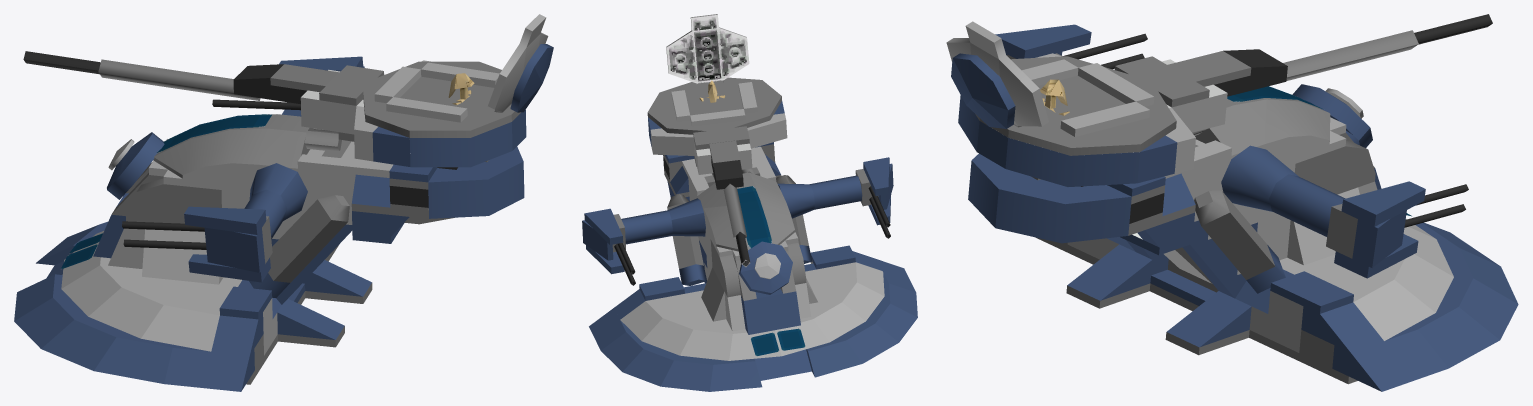
3 views of the same model, side by side, from view 1: azimuth 30°, elevation 25°; view 2: azimuth 150°, elevation 25°; view 3: azimuth 270°, elevation 25° (orthographic). The views are drawn at different scales.
Visible parts, largest first — view 1: Geo_9.039_9, Geo_9.026_22, Geo_9.043_5, Geo_9.040_8, Geo_9.028_20, Geo_9.027_21, Geo_9.044_4, Geo_9.047_1, Geo_9.029_19, Geo_9.041_7, Geo_9.042_6, Geo_9.046_2 (+1 smaller); view 2: Geo_9.039_9, Geo_9.026_22, Geo_9.041_7, Geo_9.038_10, Geo_9.043_5, Geo_9.040_8, Geo_9.028_20, Geo_9.047_1, Geo_9.046_2, Geo_9.044_4, Geo_9.042_6, Geo_9.027_21; view 3: Geo_9.039_9, Geo_9.026_22, Geo_9.041_7, Geo_9.027_21, Geo_9.028_20, Geo_9.040_8, Geo_9.043_5, Geo_9.029_19, Geo_9.042_6, Geo_9.044_4, Geo_9.047_1, Geo_9.045_3 (+1 smaller).
Part boxes in pixels (x1=…): Geo_9.039_9: x1=14, y1=132, x2=524, y2=391; Geo_9.026_22: x1=300, y1=60, x2=526, y2=167; Geo_9.043_5: x1=184, y1=163, x2=307, y2=282; Geo_9.040_8: x1=153, y1=114, x2=341, y2=178; Geo_9.028_20: x1=98, y1=59, x2=339, y2=104; Geo_9.027_21: x1=488, y1=14, x2=553, y2=112; Geo_9.044_4: x1=122, y1=221, x2=206, y2=249; Geo_9.047_1: x1=156, y1=114, x2=272, y2=153; Geo_9.029_19: x1=23, y1=51, x2=100, y2=74; Geo_9.041_7: x1=279, y1=56, x2=364, y2=116; Geo_9.042_6: x1=212, y1=99, x2=300, y2=110; Geo_9.046_2: x1=61, y1=233, x2=102, y2=269; Geo_9.039_9: x1=589, y1=142, x2=917, y2=391; Geo_9.026_22: x1=647, y1=77, x2=787, y2=174; Geo_9.041_7: x1=582, y1=198, x2=705, y2=274; Geo_9.038_10: x1=666, y1=15, x2=749, y2=83; Geo_9.043_5: x1=777, y1=157, x2=893, y2=225; Geo_9.040_8: x1=697, y1=168, x2=795, y2=251; Geo_9.028_20: x1=709, y1=140, x2=746, y2=239; Geo_9.047_1: x1=737, y1=186, x2=772, y2=248; Geo_9.046_2: x1=750, y1=328, x2=805, y2=356; Geo_9.044_4: x1=868, y1=186, x2=890, y2=238; Geo_9.042_6: x1=614, y1=243, x2=635, y2=285; Geo_9.027_21: x1=666, y1=14, x2=746, y2=84; Geo_9.039_9: x1=968, y1=84, x2=1518, y2=391; Geo_9.026_22: x1=958, y1=53, x2=1227, y2=186; Geo_9.041_7: x1=1221, y1=145, x2=1425, y2=278; Geo_9.027_21: x1=946, y1=21, x2=1048, y2=128; Geo_9.028_20: x1=1167, y1=30, x2=1418, y2=96; Geo_9.040_8: x1=1192, y1=98, x2=1330, y2=155; Geo_9.043_5: x1=995, y1=24, x2=1091, y2=59; Geo_9.029_19: x1=1414, y1=14, x2=1492, y2=44; Geo_9.042_6: x1=1404, y1=184, x2=1468, y2=227; Geo_9.044_4: x1=1063, y1=33, x2=1147, y2=69; Geo_9.047_1: x1=1227, y1=86, x2=1323, y2=109; Geo_9.045_3: x1=1164, y1=247, x2=1212, y2=283.
Bounding box in the file's own units: 1.78 × 1.35 × 1.85.
Materials: 16 (11 with a texture image).
